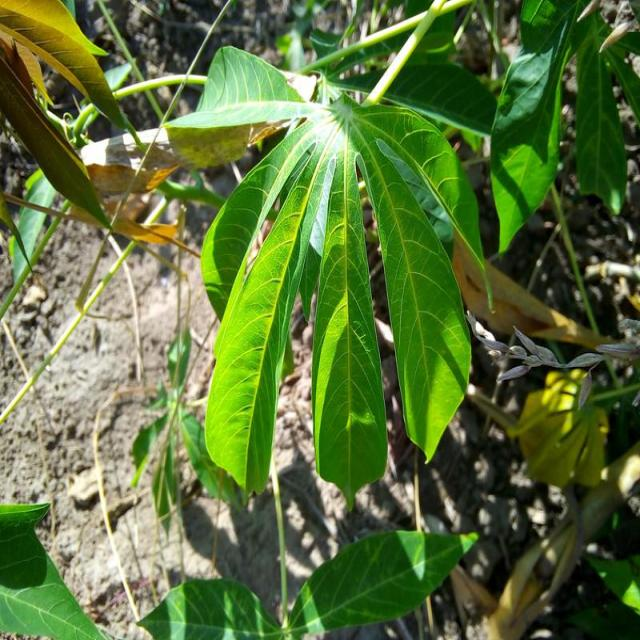cassava leaf: (183, 62, 488, 509), (310, 127, 389, 511), (288, 528, 479, 637), (2, 500, 108, 638)
